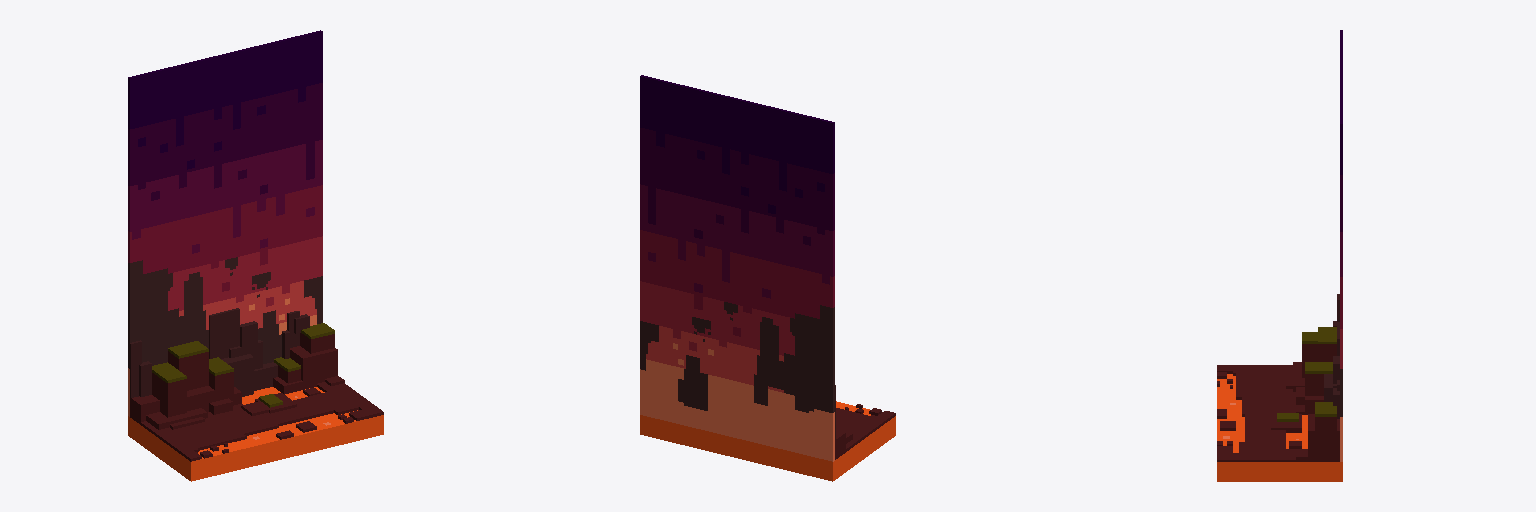
3 views of the same model, side by side, from view 1: azimuth 30°, elevation 25°; view 2: azimuth 150°, elevation 25°; view 3: azimuth 270°, elevation 25° (orthographic).
Bounding box in the file's own units: 71 × 126 × 40.
Materials: 1 (1 with a texture image).